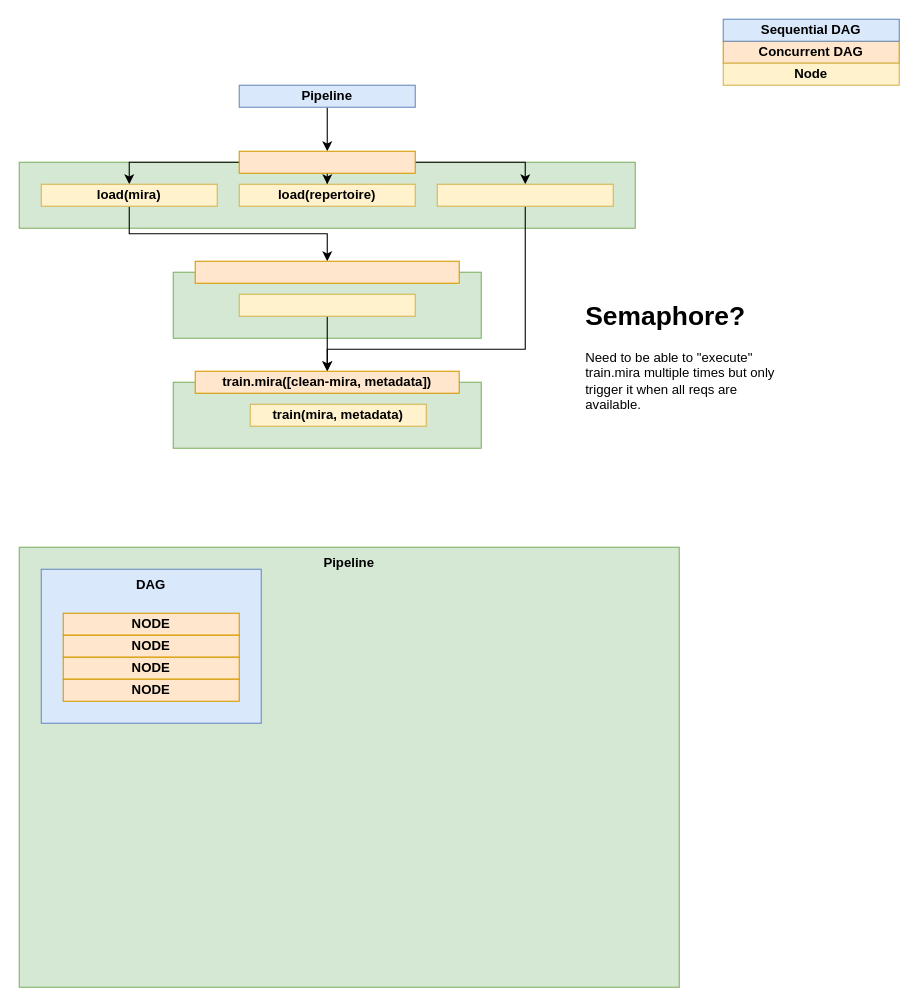
Some shapes in this 919 by 1007 pixel diagram are drawn without their labels. The centre of each missing label's shape, as x and y in pixels:
"clean(mira)" goes at point 326,304.
"data-loading (no reqs)" goes at point 326,161.
"load(metadata)" goes at point 524,194.
"pre-processing.mira ([mira])" goes at point 326,271.
